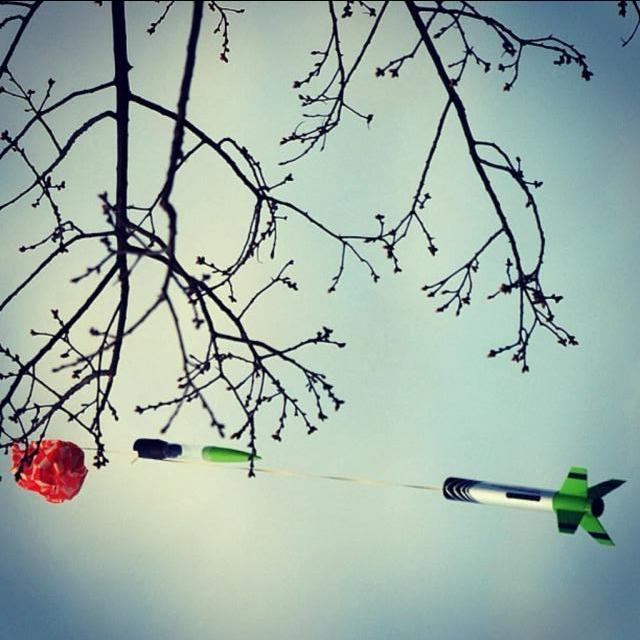Missile: (435, 466, 626, 543)
